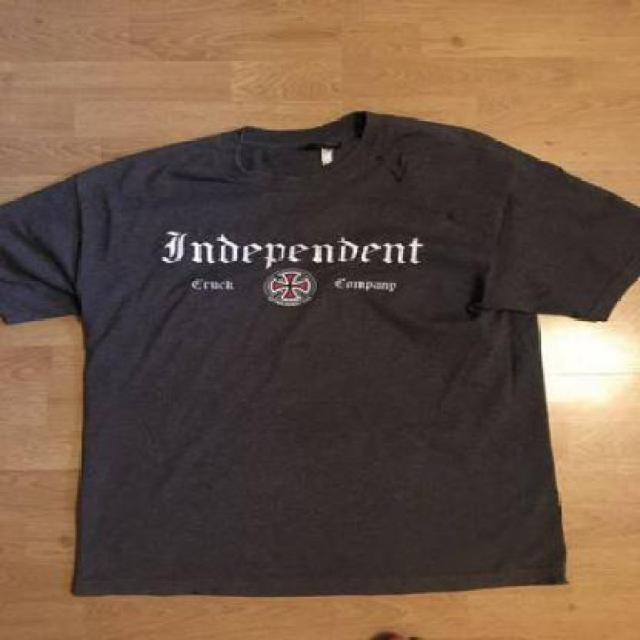shirt: (0, 108, 638, 594)
